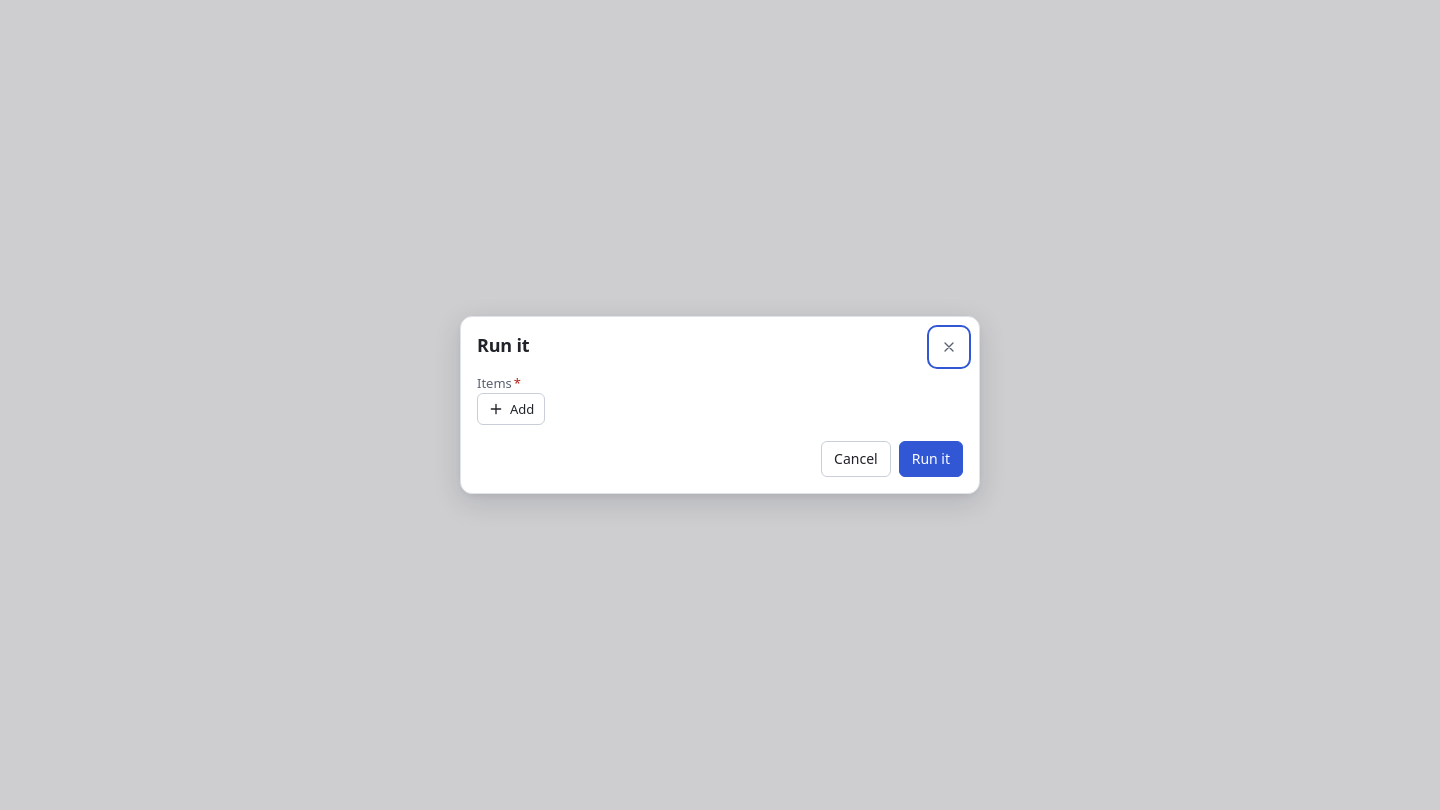
Scenario: a list of rows with a link and a decimal › needs at least one row when the list is required
The width and height of the screenshot is (1440, 810).
Step 1. Click the submit button → x=931, y=459, box [899,441,963,477]
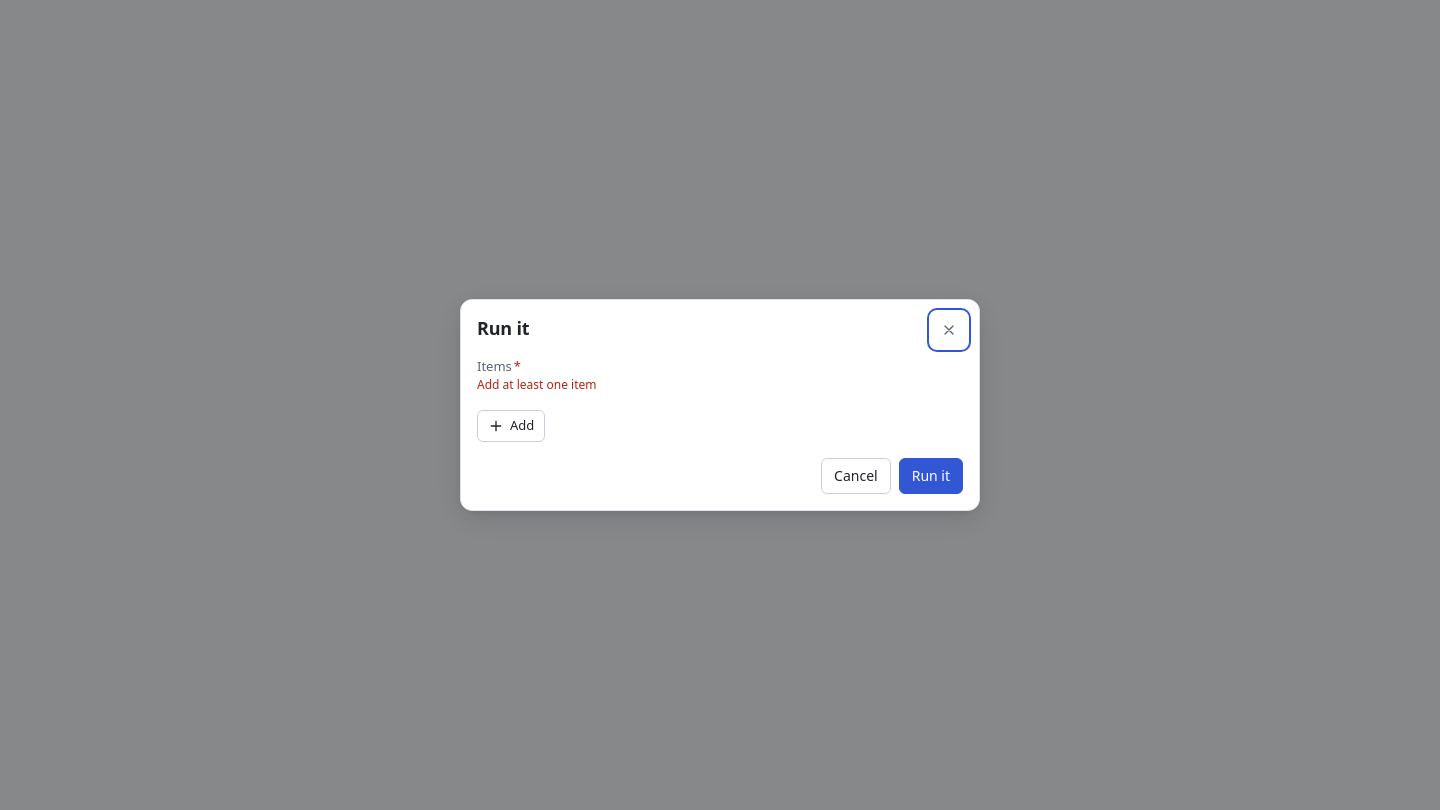
Expected: the text "Add at least one item" is shown, [477,376,596,393]
